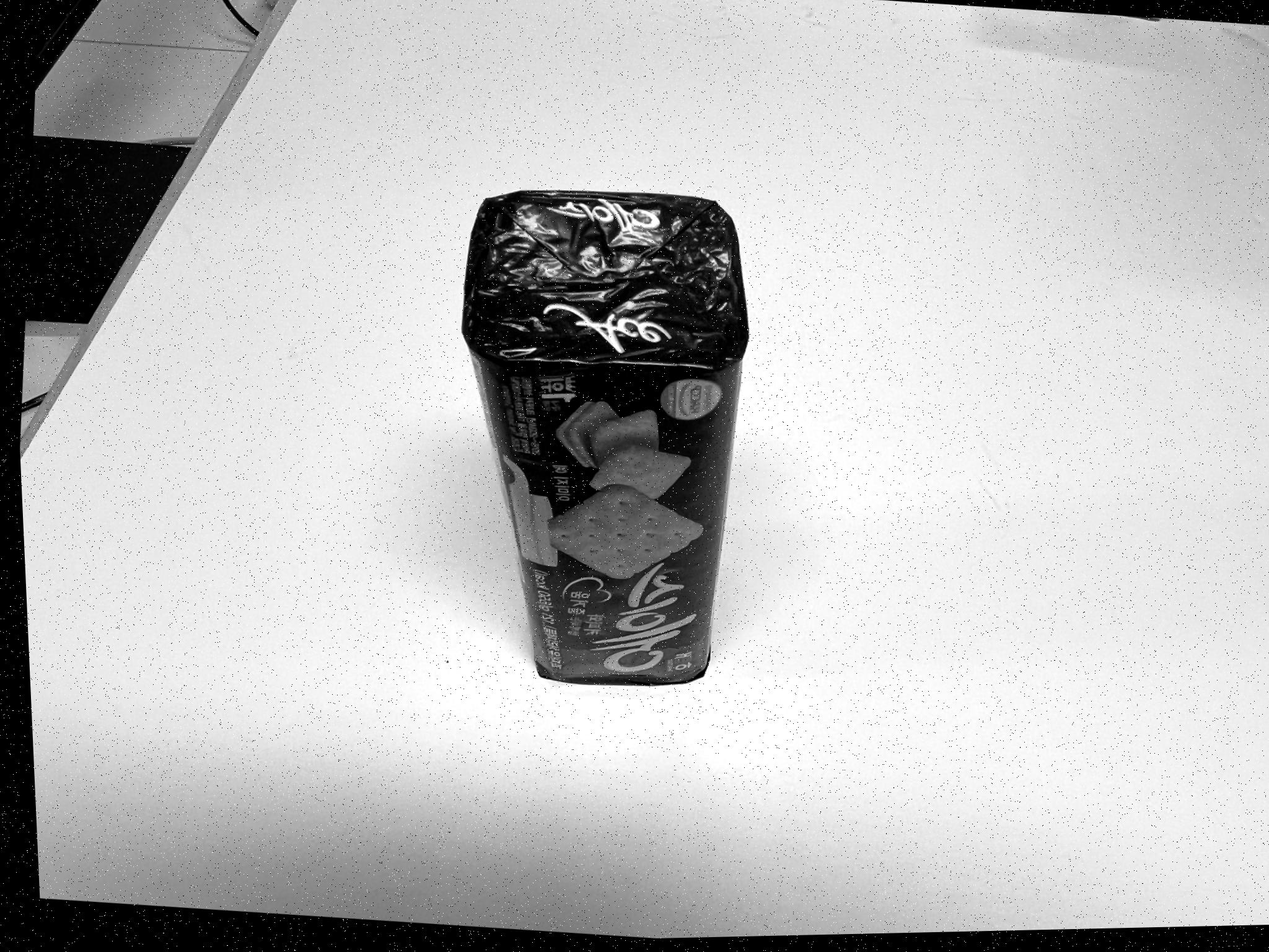cracker_ace: (460, 188, 751, 686)
